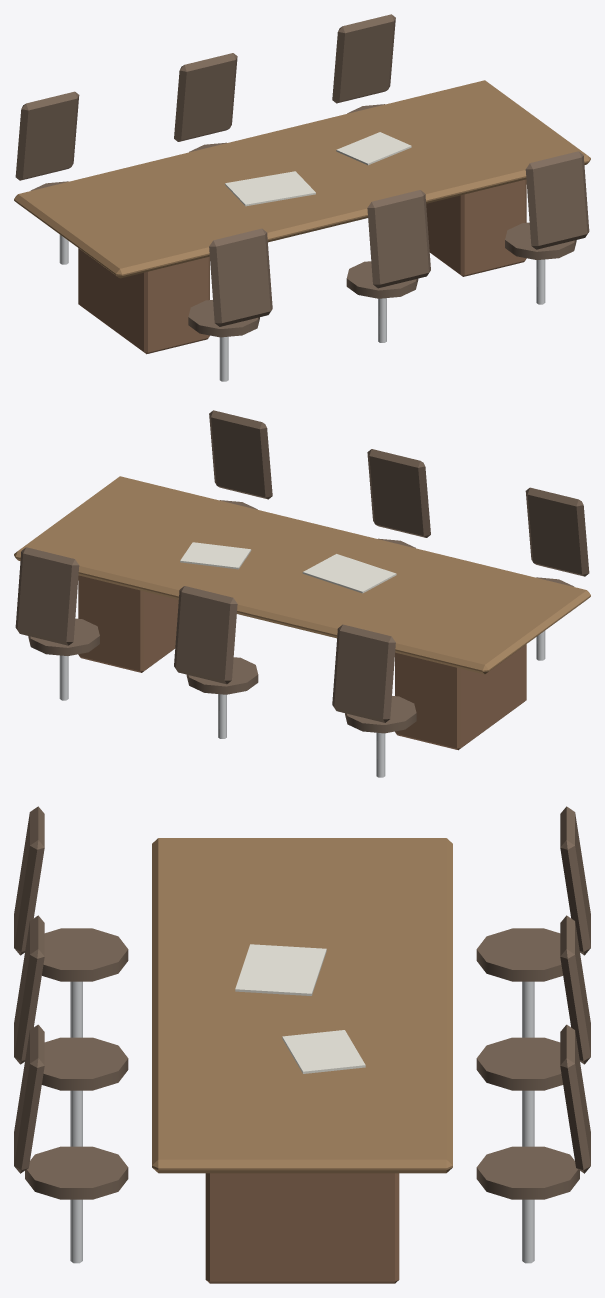
The model's file is an_conf.glb.
3 views of the same model, one above another, from view 1: azimuth 30°, elevation 25°; view 2: azimuth 150°, elevation 25°; view 3: azimuth 270°, elevation 25° (orthographic). The views are drawn at different scales.
Visible parts, largest first — view 1: an_conf; view 2: an_conf; view 3: an_conf.
Part boxes in pixels (<box>): an_conf: <box>14,14,590,381</box>; an_conf: <box>14,410,590,777</box>; an_conf: <box>14,806,590,1283</box>.
Size of the model in its own units: 3.6 by 1.14 by 2.68.
